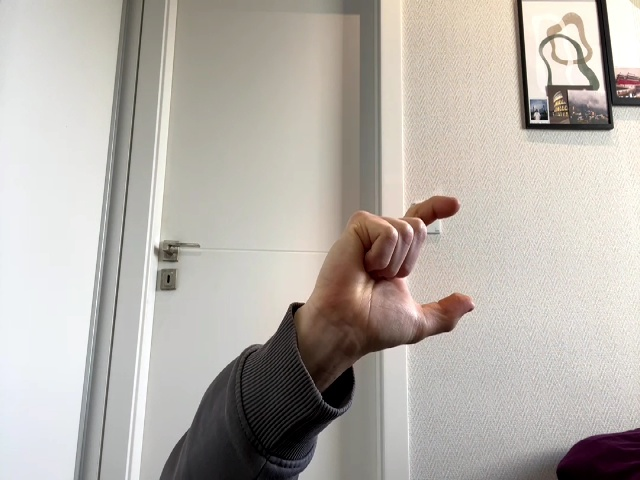C: (312, 196, 474, 356)
